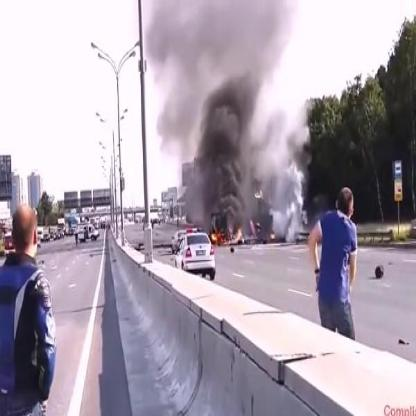fire: (211, 229, 245, 245)
